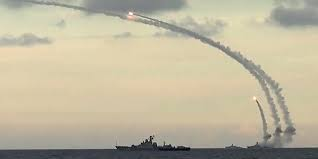tau_muctieu: (111, 134, 191, 151)
ten_lua: (128, 9, 138, 17), (251, 94, 258, 103)
